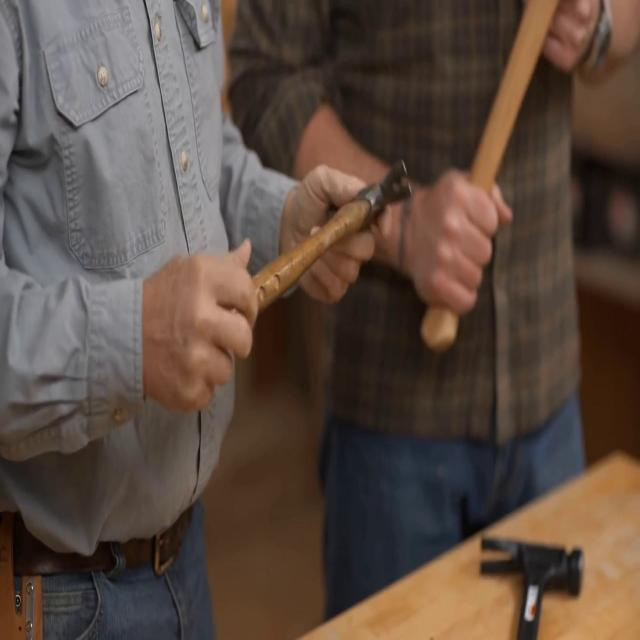hammer: (229, 162, 411, 312), (480, 536, 584, 640)
